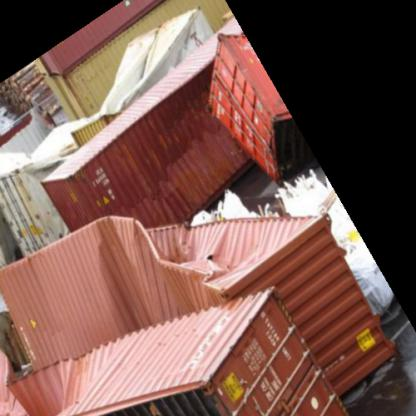Damage: (60, 211, 332, 340), (88, 34, 210, 170), (2, 360, 117, 416)
